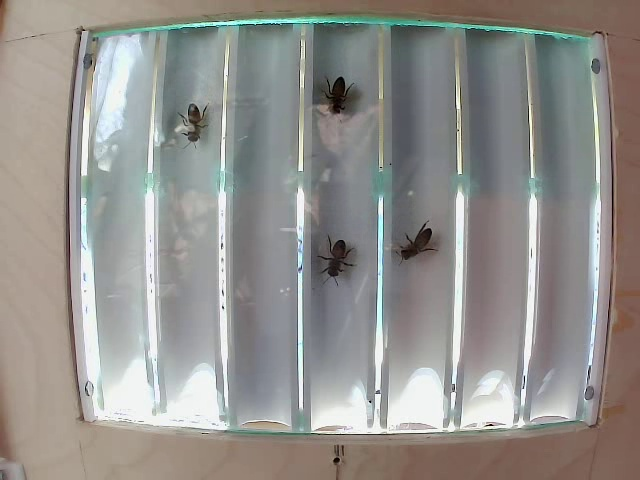bee: (312, 230, 368, 291), (392, 215, 441, 272), (177, 97, 221, 153), (319, 75, 355, 125)
